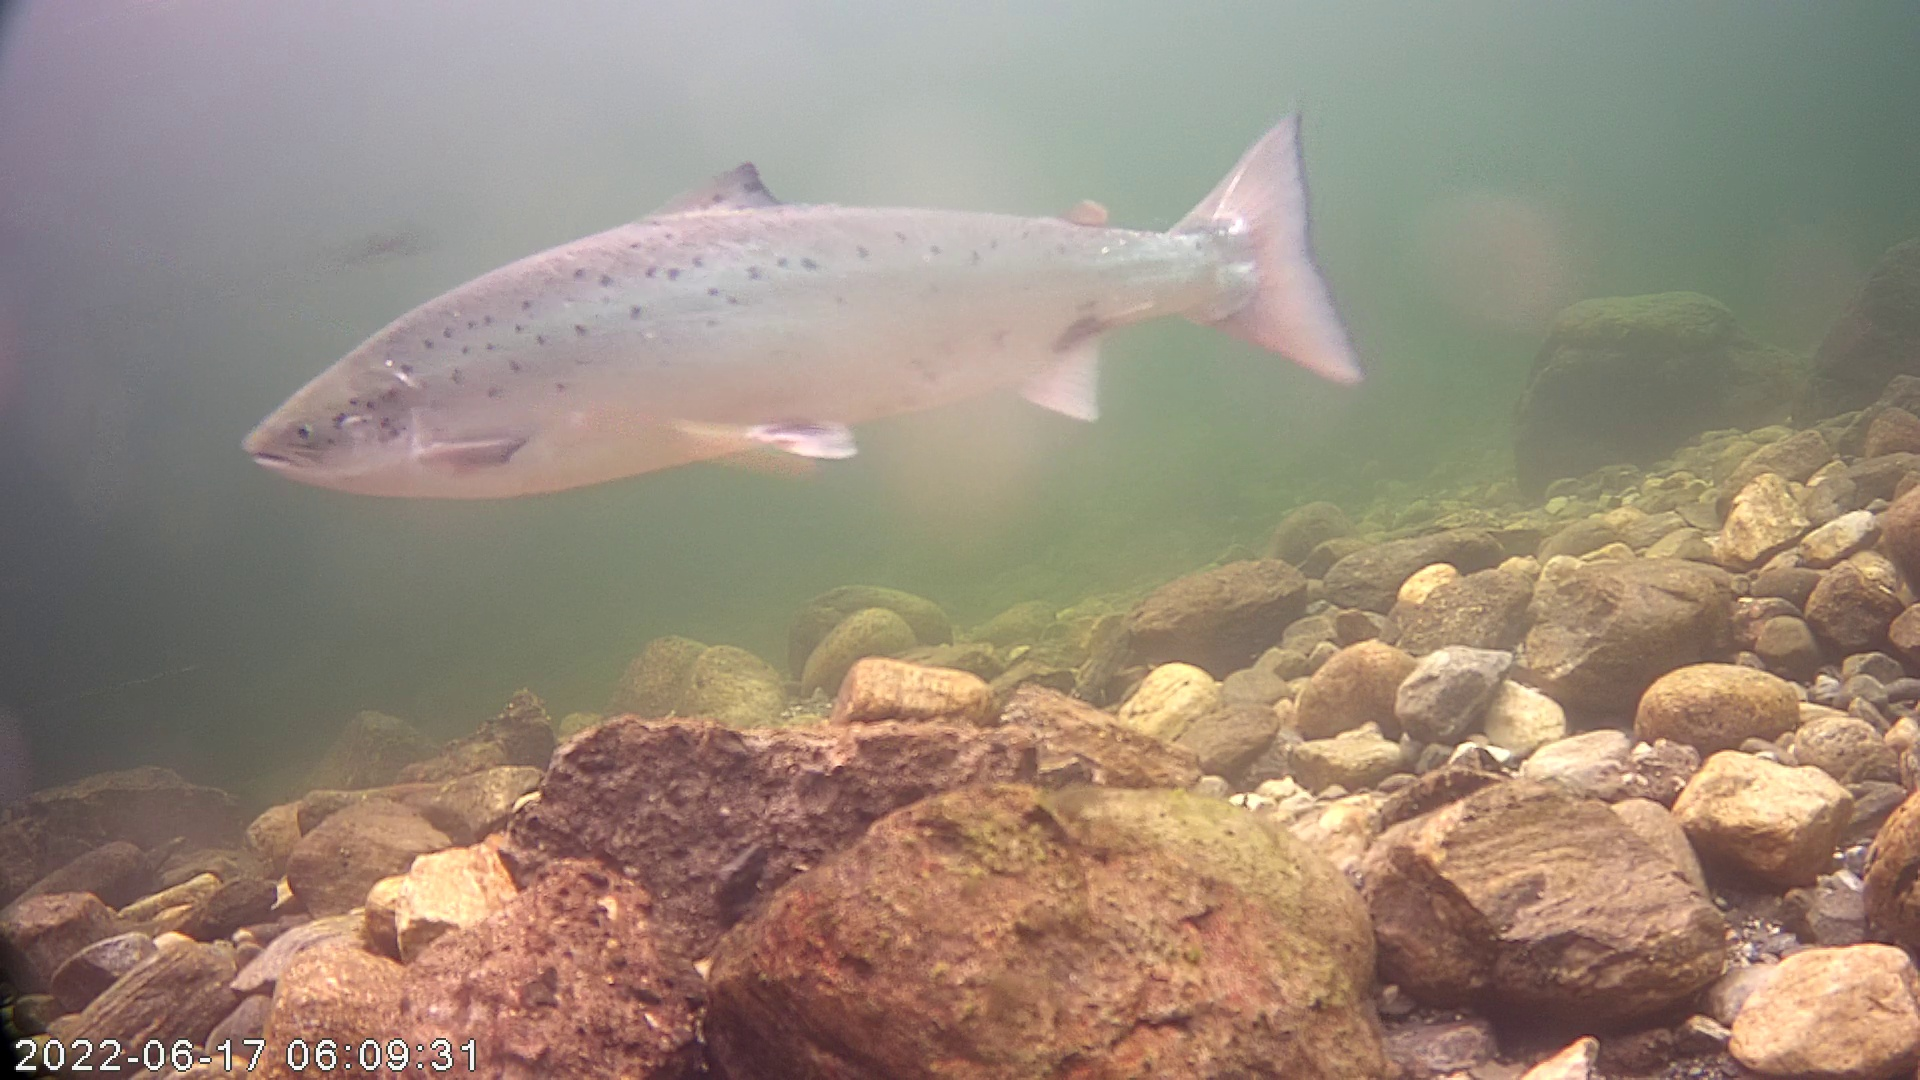salmon: (239, 108, 1367, 506)
